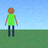person: (5, 8, 18, 36)
